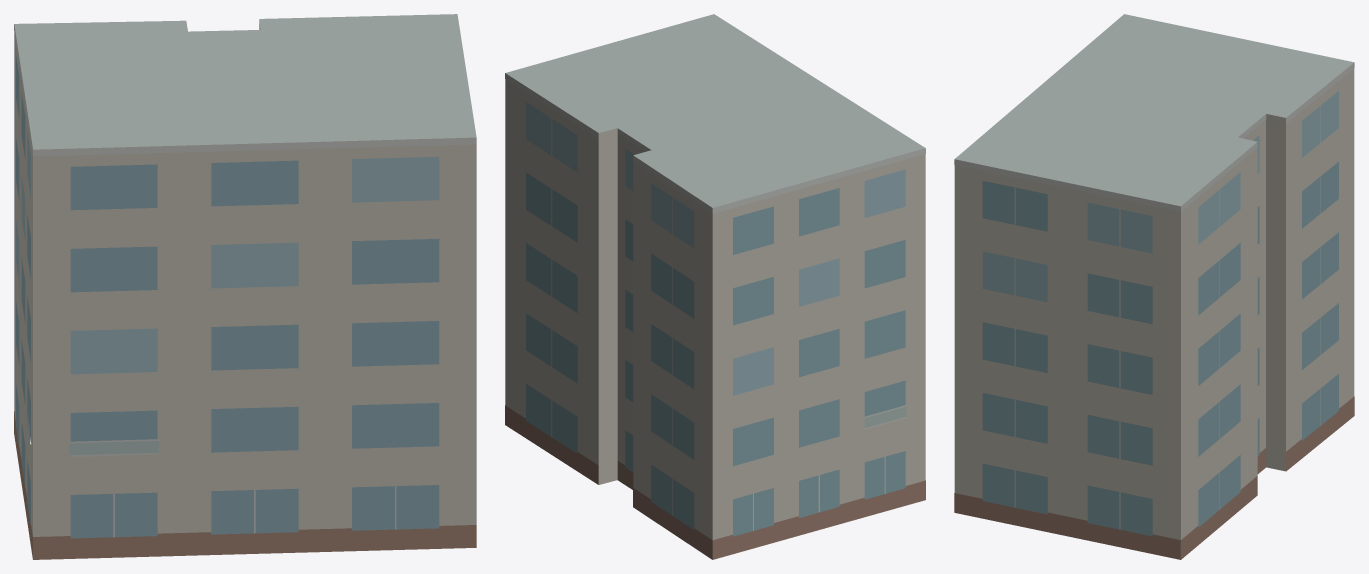
The model's file is survey-upis-32842915.glb.
3 views of the same model, side by side, from view 1: azimuth 30°, elevation 25°; view 2: azimuth 150°, elevation 25°; view 3: azimuth 270°, elevation 25° (orthographic). The views are drawn at different scales.
Visible parts, largest first — view 1: survey-upis-32842915.tmp; view 2: survey-upis-32842915.tmp; view 3: survey-upis-32842915.tmp.
Part boxes in pixels (left/top/right/bottom): survey-upis-32842915.tmp: left=14, top=14, right=476, bottom=559; survey-upis-32842915.tmp: left=505, top=14, right=925, bottom=559; survey-upis-32842915.tmp: left=954, top=14, right=1354, bottom=559.
Bounding box in the file's own units: 17.22 × 14.75 × 15.13.
